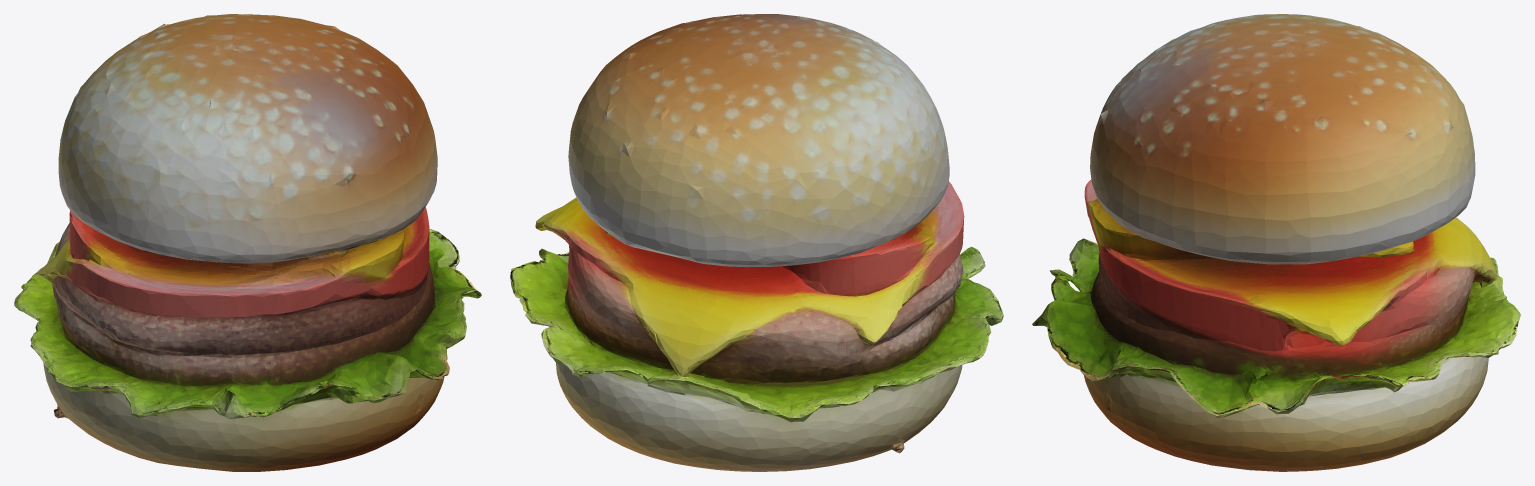
Rendered from generation-model_file.glb.
3 views of the same model, side by side, from view 1: azimuth 30°, elevation 25°; view 2: azimuth 150°, elevation 25°; view 3: azimuth 270°, elevation 25° (orthographic).
Parts seen in each view (by area): view 1: world; view 2: world; view 3: world.
Boxes of the visible parts, left/top/right/bottom form: world: left=14, top=14, right=481, bottom=471; world: left=510, top=14, right=1003, bottom=471; world: left=1032, top=14, right=1520, bottom=471.
Bounding box in the file's own units: 0.4244 × 0.351 × 0.4277.
1 material, 1 textured.
